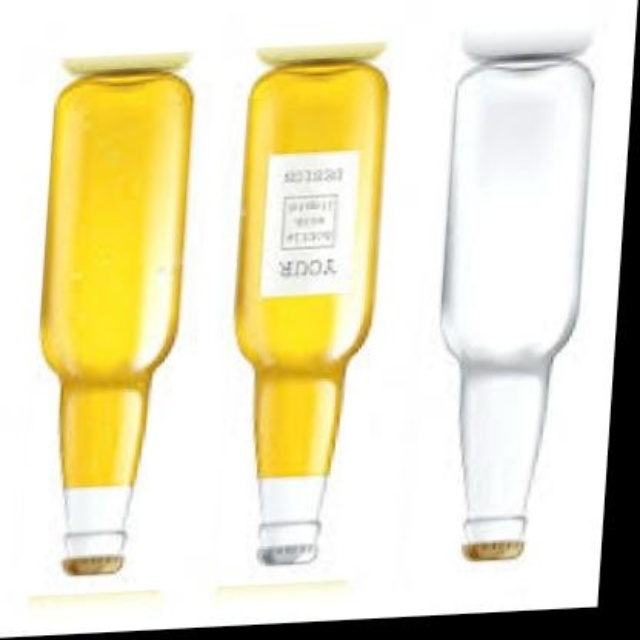trash: (442, 34, 592, 558), (42, 54, 191, 574), (237, 43, 386, 563)
